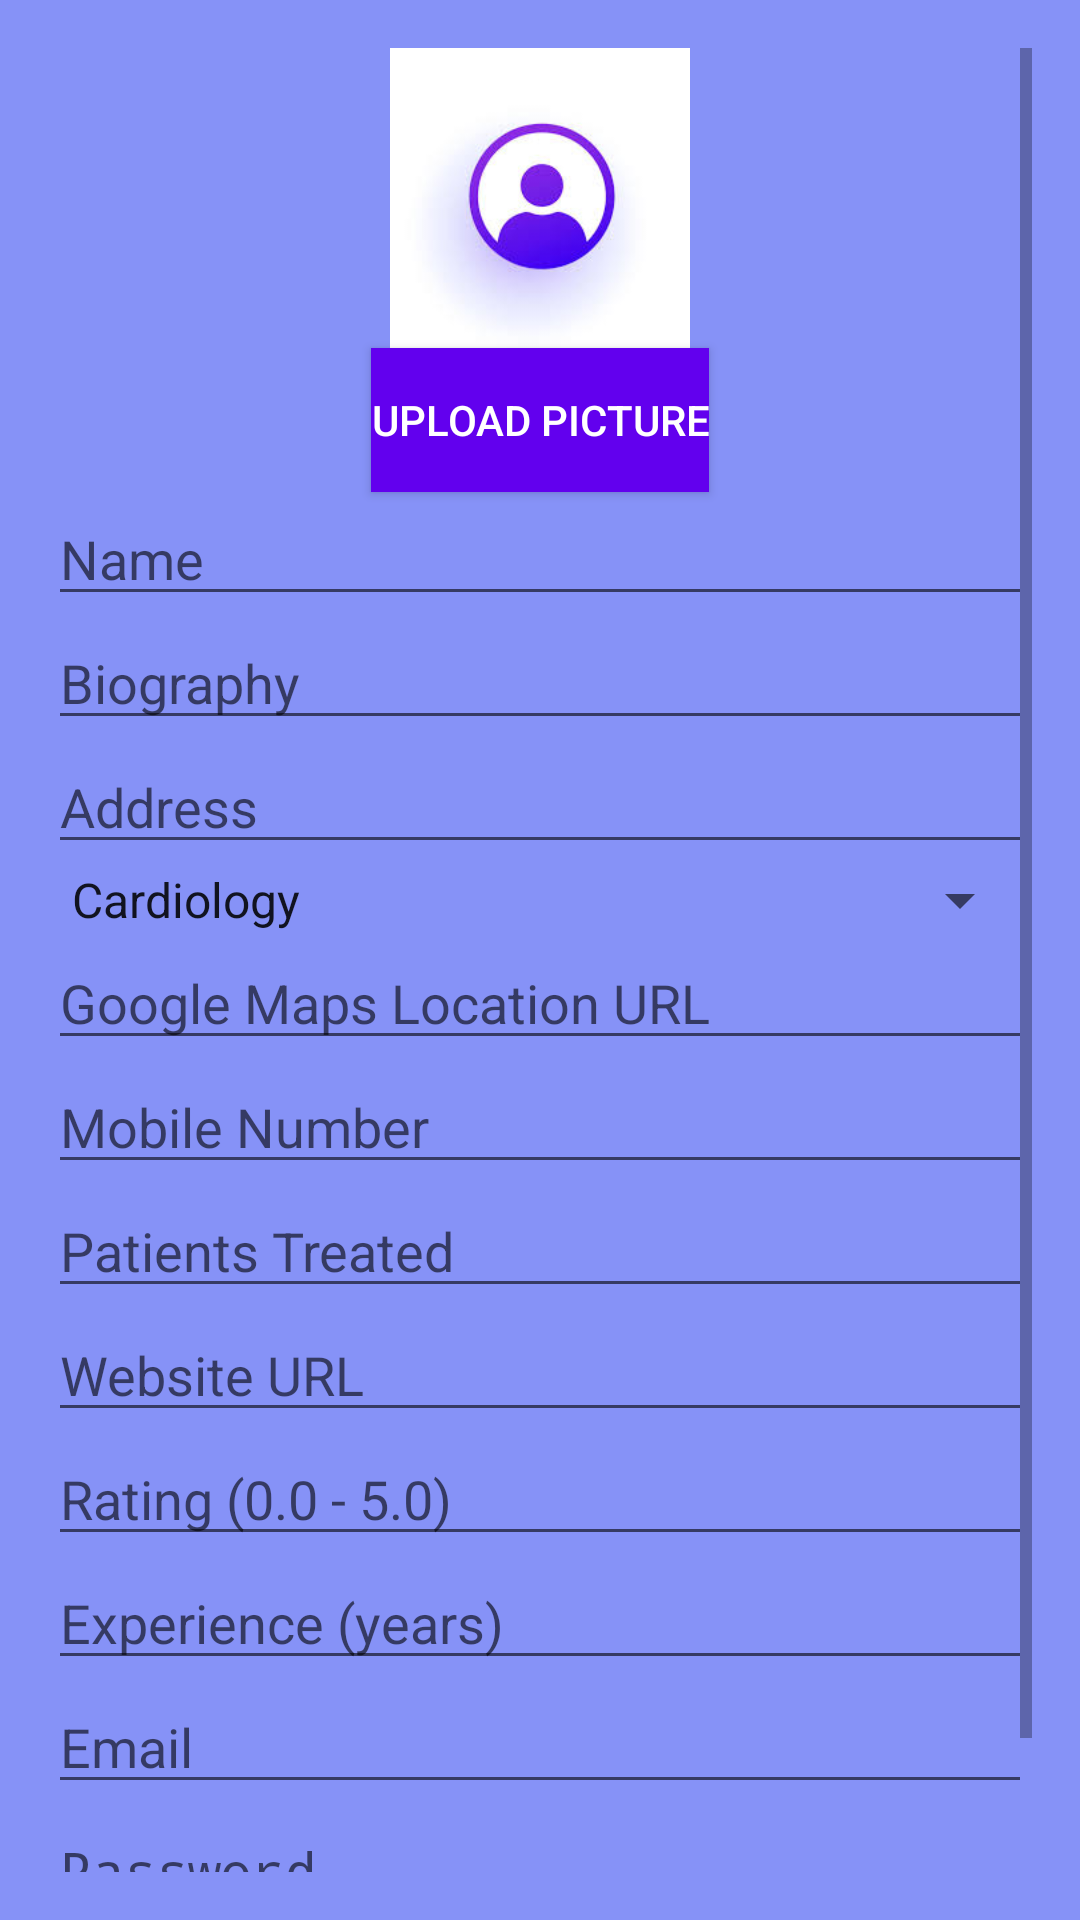

Screen size 1080×1920. Icon name, then its center in pixels as point (x, y):
profile: point (540, 198)
